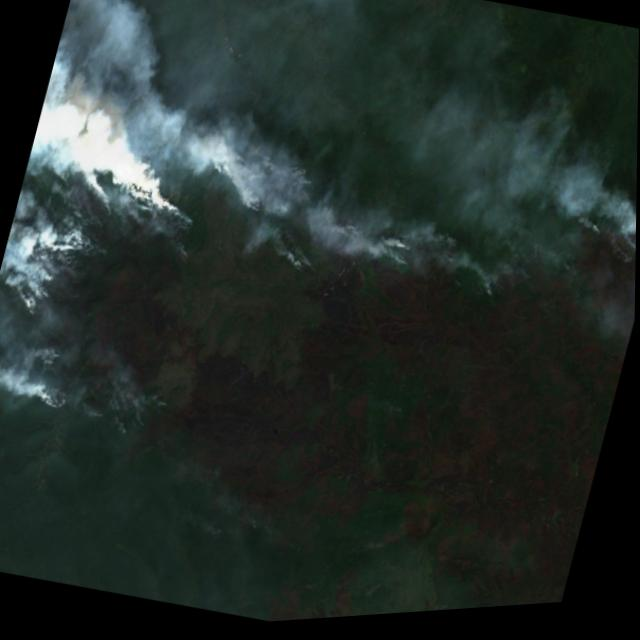fire: (0, 59, 639, 552)
